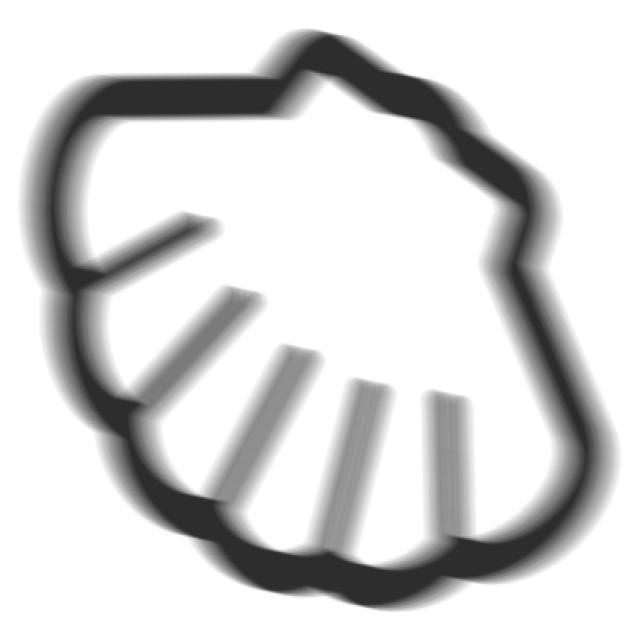shell: (9, 17, 631, 628)
